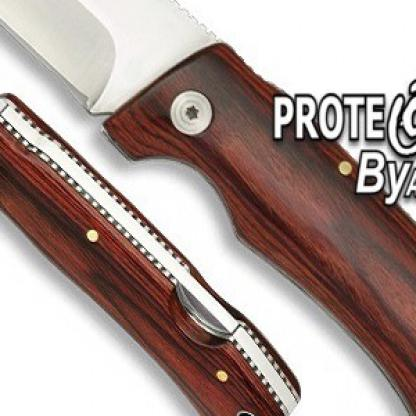knife: (0, 0, 229, 134)
